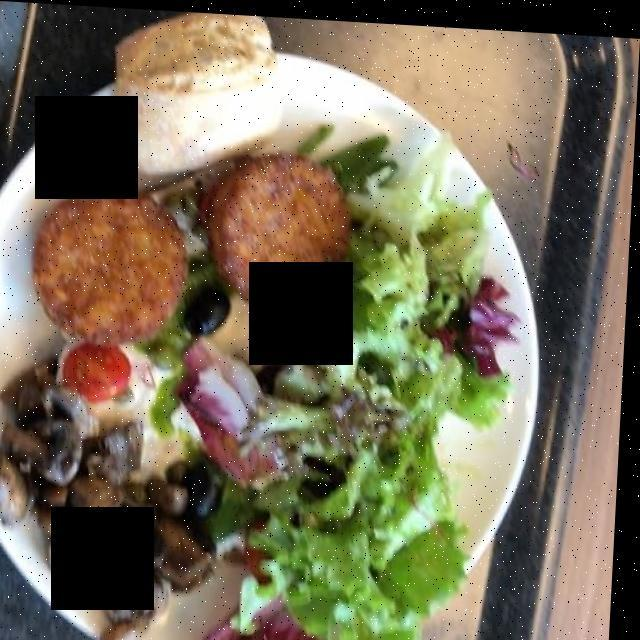bread: (85, 12, 294, 188)
mayonnaise: (45, 340, 211, 496)
mushrooms: (0, 394, 228, 613)
rosti: (24, 174, 367, 340)
salad: (158, 138, 496, 627)
